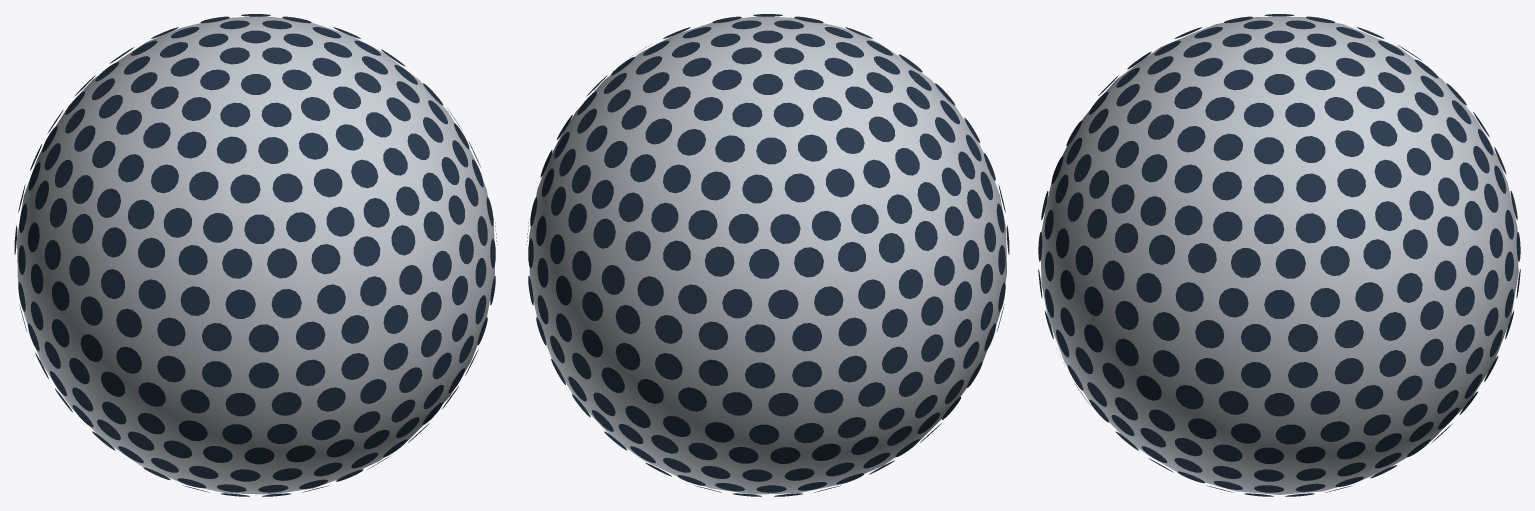
Rendered from lageos.glb.
3 renders of one model, left to right at view 1: azimuth 30°, elevation 25°; view 2: azimuth 150°, elevation 25°; view 3: azimuth 270°, elevation 25°, orthographic.
Parts seen in each view (by area): view 1: body, solar-panel; view 2: body, solar-panel; view 3: body, solar-panel.
Part boxes in pixels (x1,y1,x2,y2): body: [17, 16, 494, 494]; solar-panel: [14, 14, 497, 496]; body: [529, 16, 1006, 494]; solar-panel: [526, 14, 1009, 496]; body: [1041, 17, 1518, 494]; solar-panel: [1038, 14, 1520, 496].
Bounding box in the file's own units: 0.6028 × 0.603 × 0.6028.
